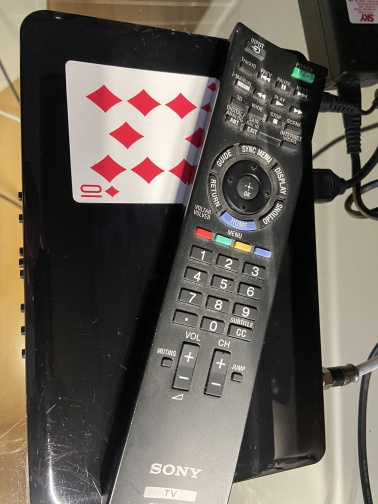ten: (62, 58, 243, 207)
